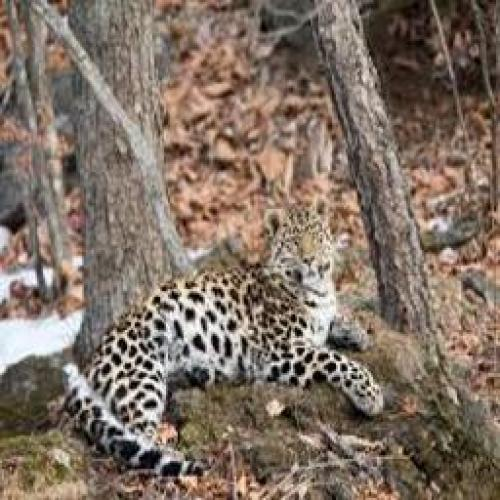amur_leopard-endangered: (60, 203, 399, 480)
